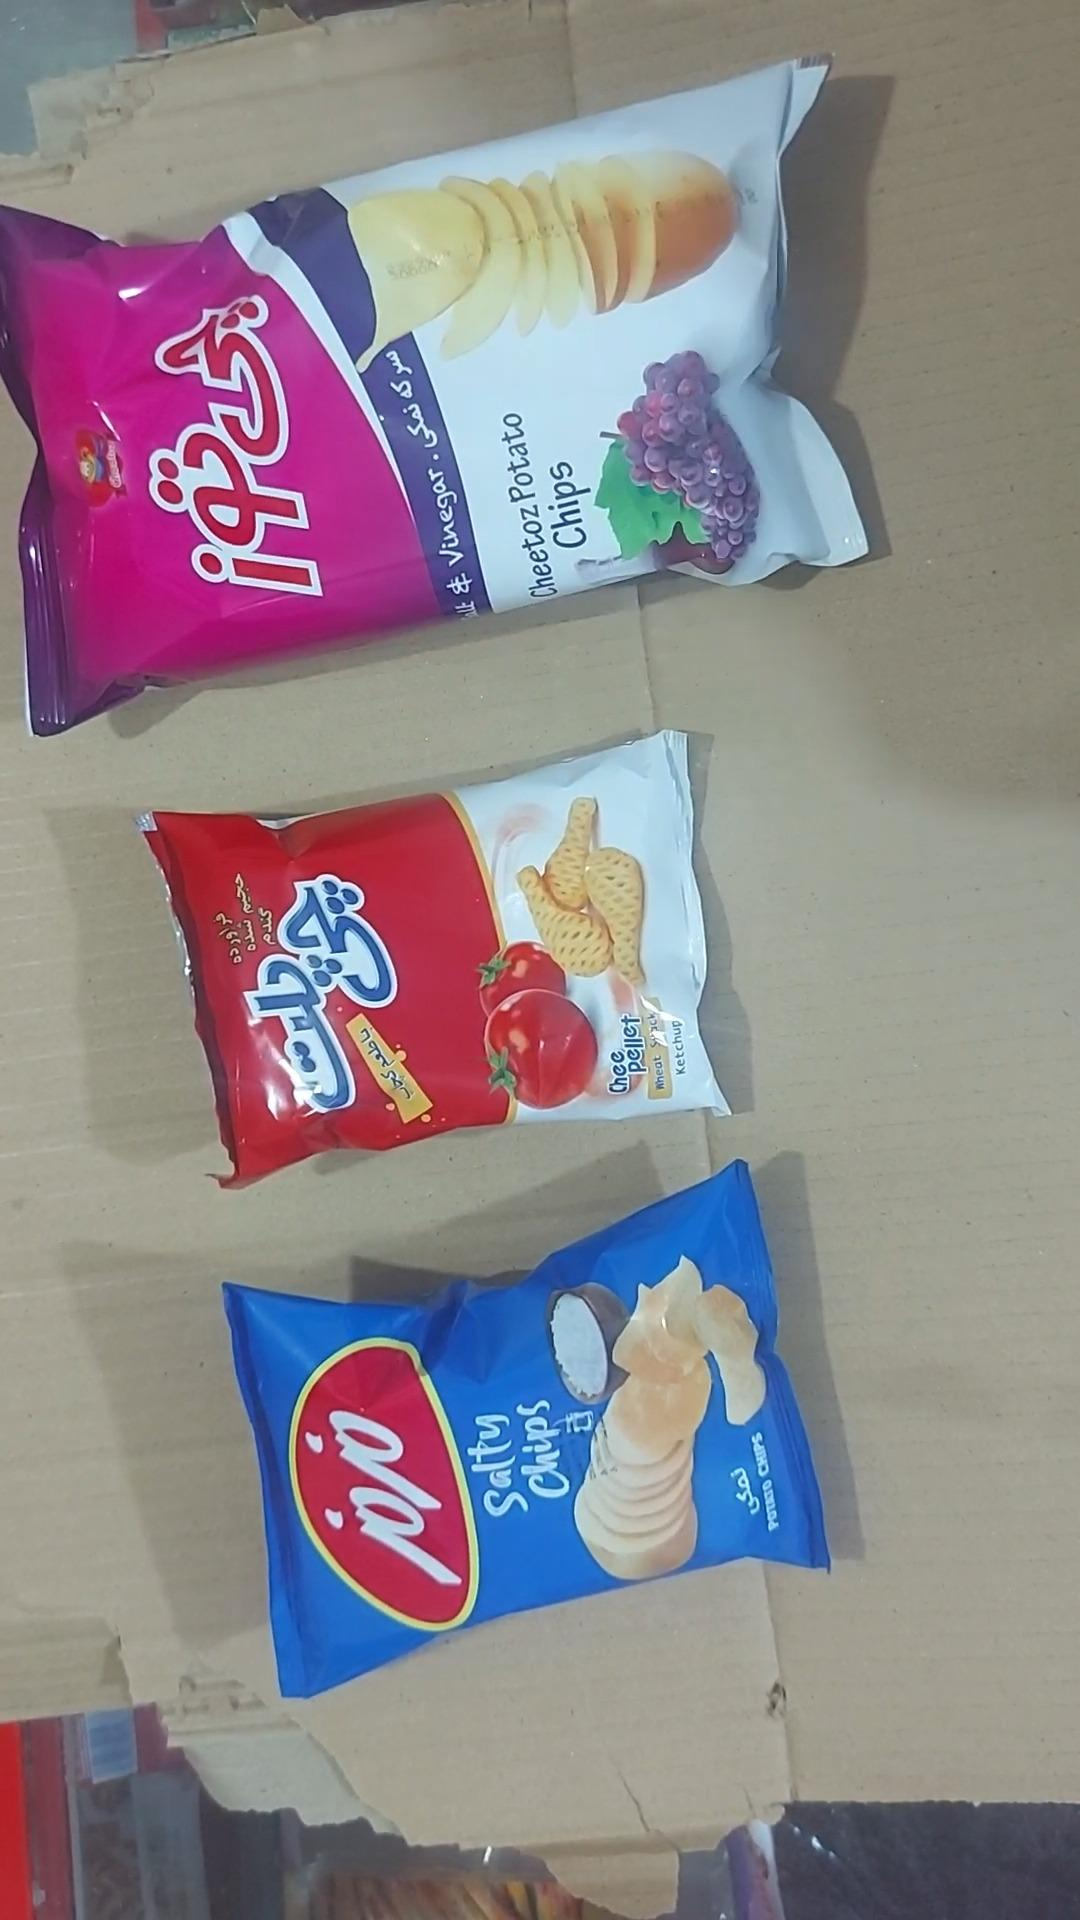Chee pellet ketchup: (137, 732, 737, 1192)
Cheetoz vinegar chips: (0, 55, 880, 741)
Maz Maz salty chips: (222, 1160, 831, 1702)
